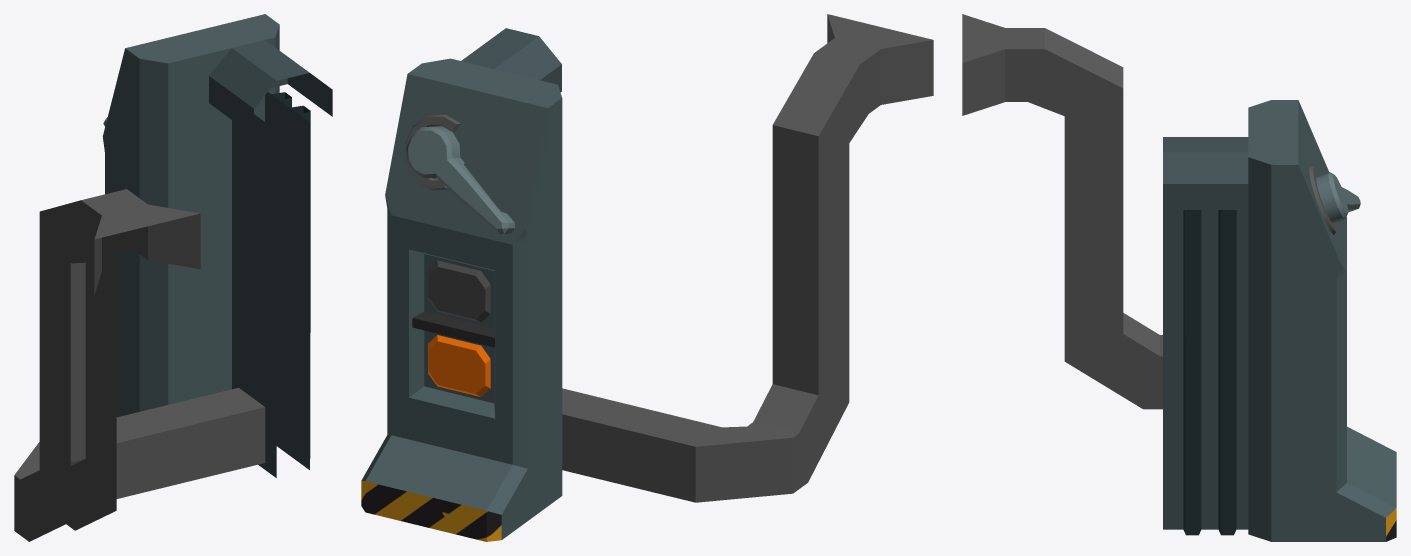
Rendered from SM_switch_down_false.fbx.
3 views of the same model, side by side, from view 1: azimuth 30°, elevation 25°; view 2: azimuth 150°, elevation 25°; view 3: azimuth 270°, elevation 25° (orthographic). The views are drawn at different scales.
Visible parts, largest first — view 1: SM_switch_down_false; view 2: SM_switch_down_false; view 3: SM_switch_down_false.
Boxes of the visible parts, <box> form: SM_switch_down_false: <box>14,14,332,541</box>; SM_switch_down_false: <box>361,14,933,541</box>; SM_switch_down_false: <box>962,14,1396,541</box>.
Size of the model in its own units: 77.66 by 84.76 by 88.43.
Materials: 1 (1 with a texture image).
